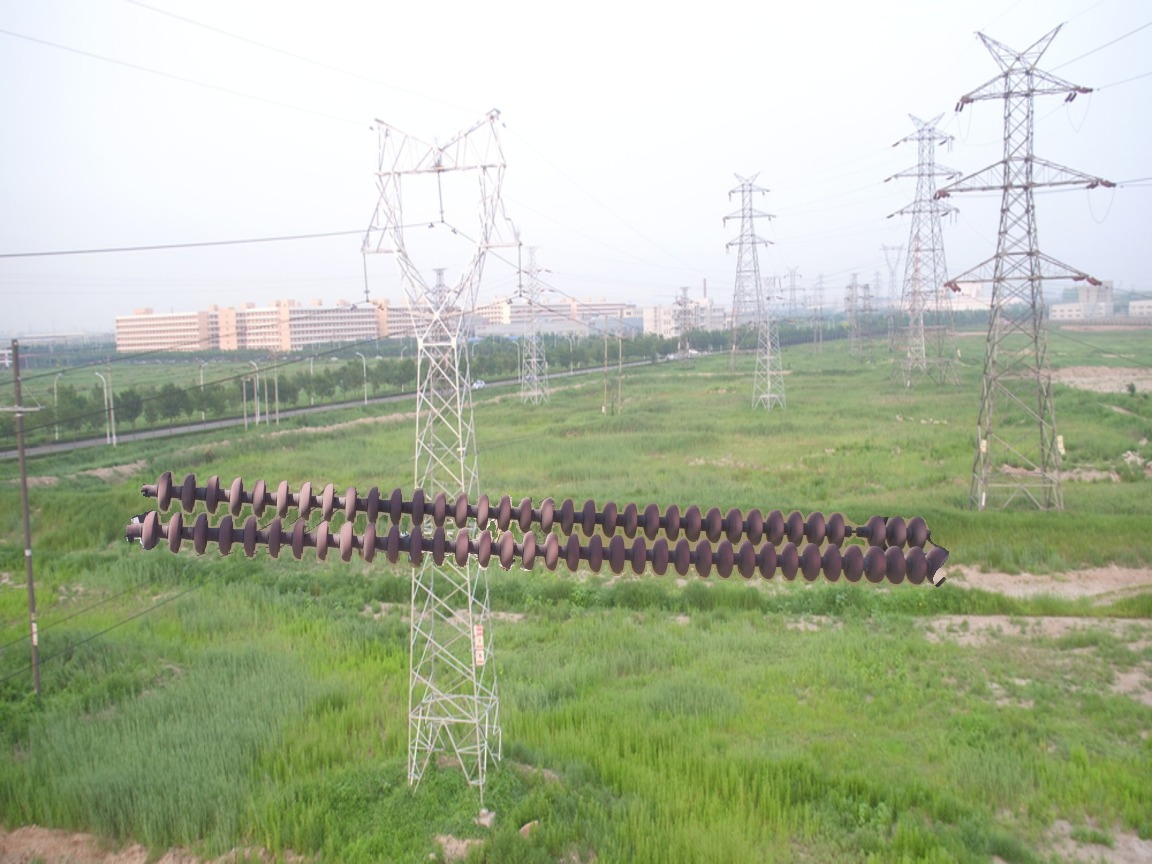defect: (821, 512, 888, 548)
